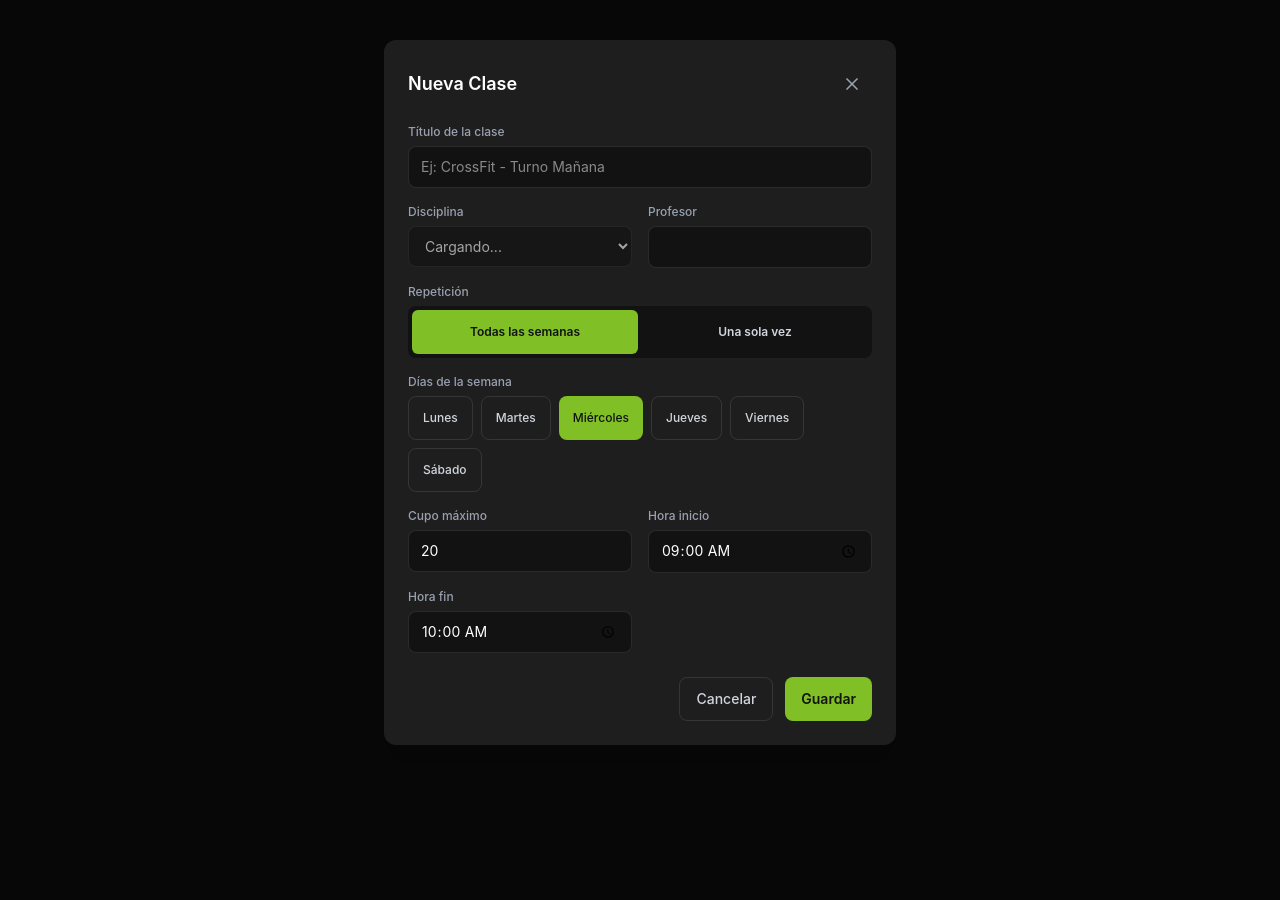
Test: NuevaClaseModal -- Todas las semanas / Una sola vez › "Una sola vez" cambia los días por una fecha, con mínimo hoy y la fecha escrita
Step 1. Click the radio button labelled "Una sola vez" → point(755, 332), box [642,310,868,354]
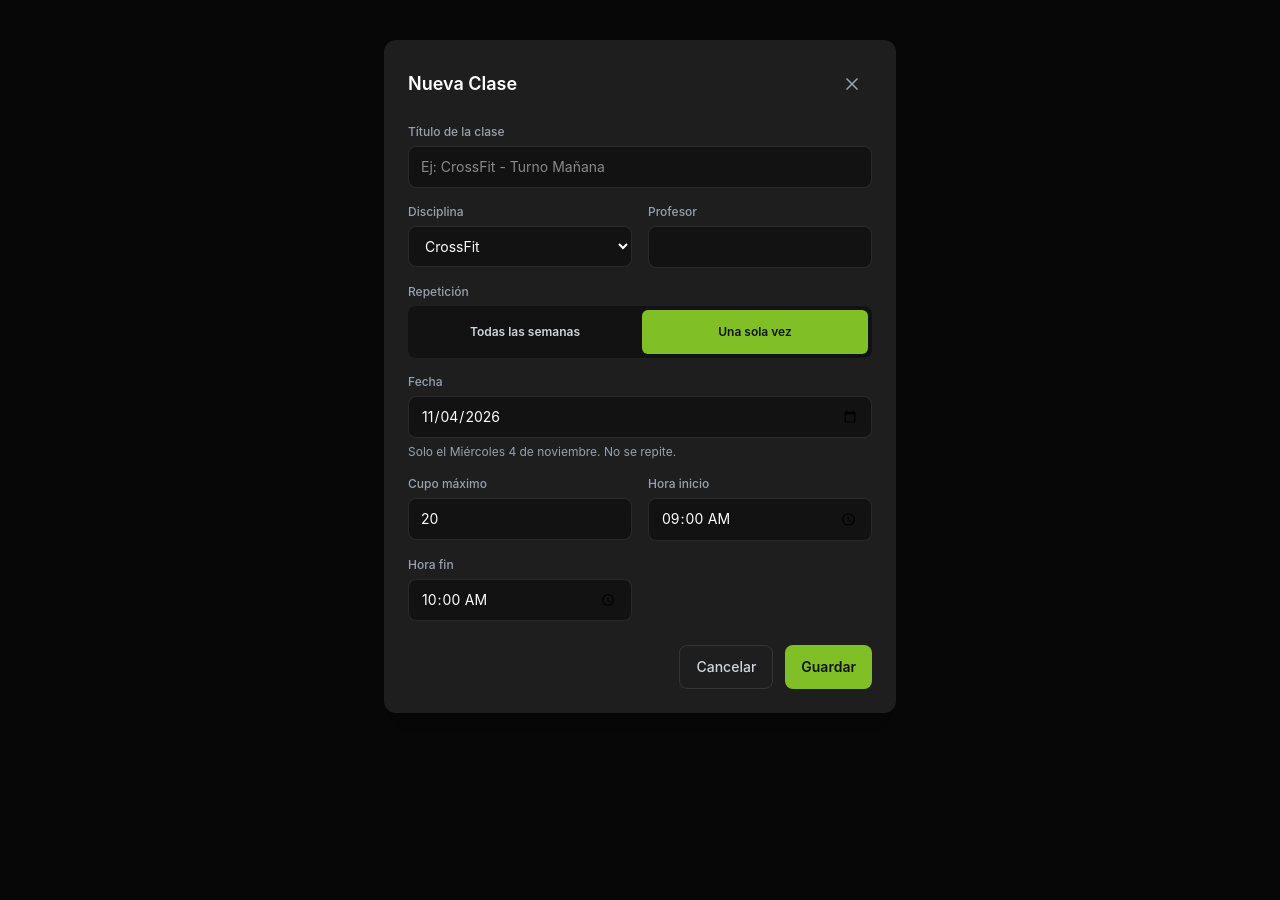
Result: the date field labelled "Fecha" holds "2026-11-04" at [408,396,872,438]
Result: the text "Solo el Miércoles 4 de noviembre. No se repite." is shown at [408,444,676,459]
Result: the text "Días de la semana" is gone
